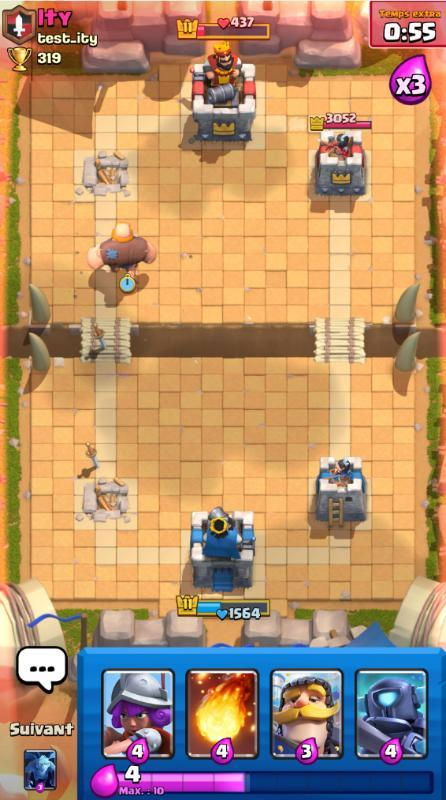geant: (86, 222, 157, 284)
